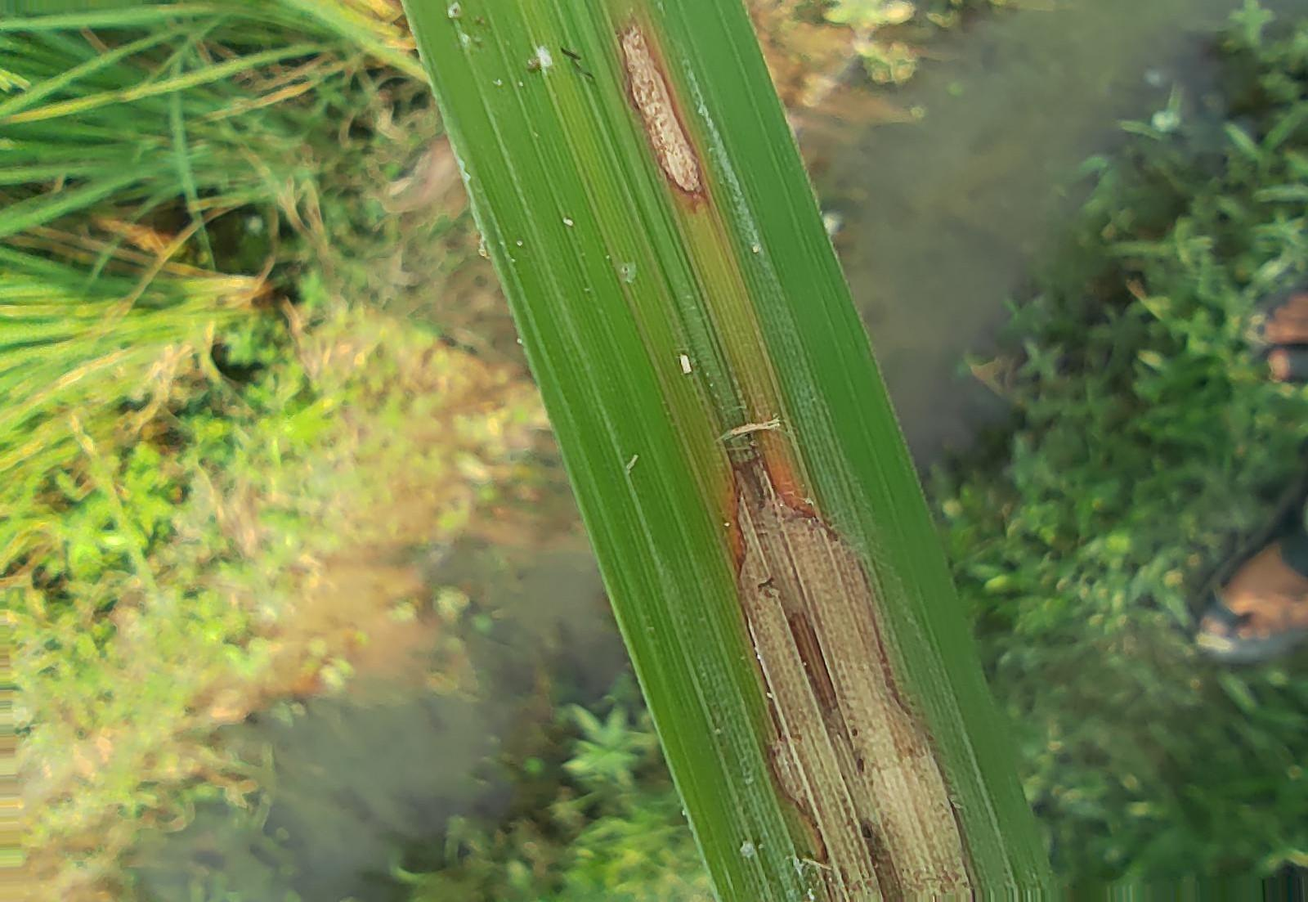LEAF: (405, 0, 1052, 901)
LEAF BLAST: (732, 396, 979, 900), (616, 20, 708, 201)
